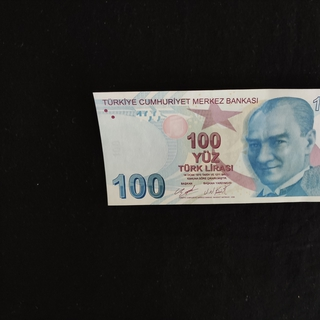100TLFront: (92, 87, 320, 206)
